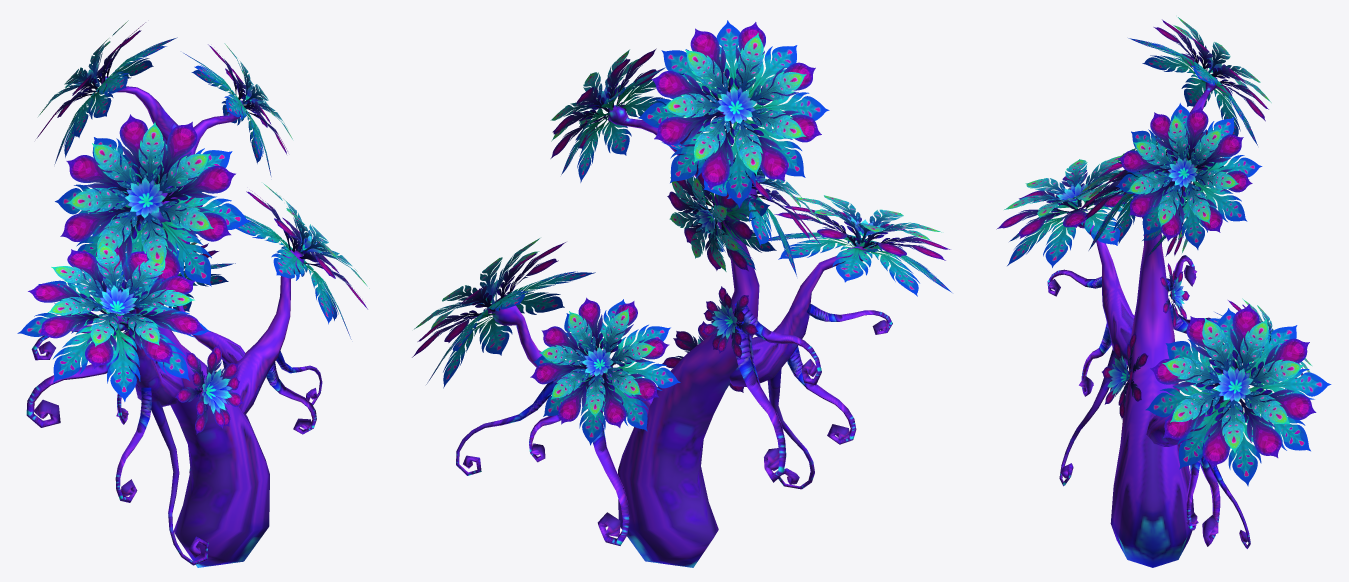
File: Blue_Tree_09c.FBX
The picture shows the model from 3 angles, left to right: view 1: azimuth 30°, elevation 25°; view 2: azimuth 150°, elevation 25°; view 3: azimuth 270°, elevation 25°; orthographic projection. The views are drawn at different scales.
Parts seen in each view (by area): view 1: Blue_Tree_09c; view 2: Blue_Tree_09c; view 3: Blue_Tree_09c.
Part boxes in pixels (left/top/right/bottom): Blue_Tree_09c: left=17, top=20, right=369, bottom=567; Blue_Tree_09c: left=412, top=20, right=951, bottom=567; Blue_Tree_09c: left=996, top=17, right=1331, bottom=567.
Size of the model in its own units: 401 by 505 by 309.
